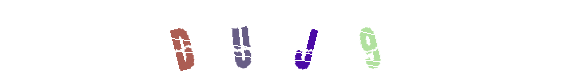9: (306, 0, 386, 80)
D: (142, 0, 222, 80)
J: (250, 0, 330, 80)
U: (230, 0, 310, 80)
